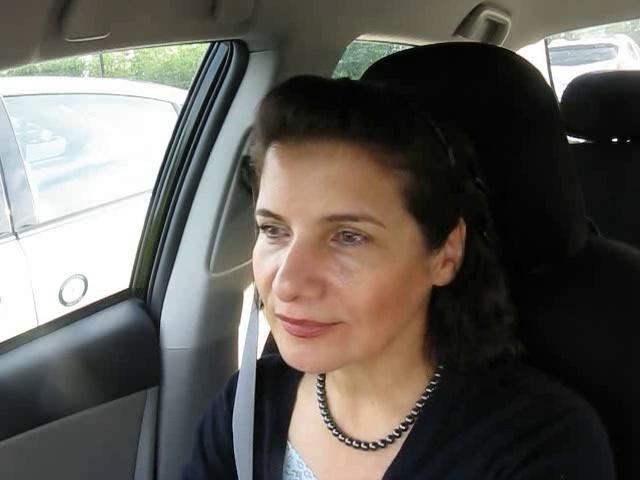no_yawn: (263, 300, 355, 350)
open_eyeL: (246, 215, 296, 250)
open_eyeR: (319, 220, 389, 255)
